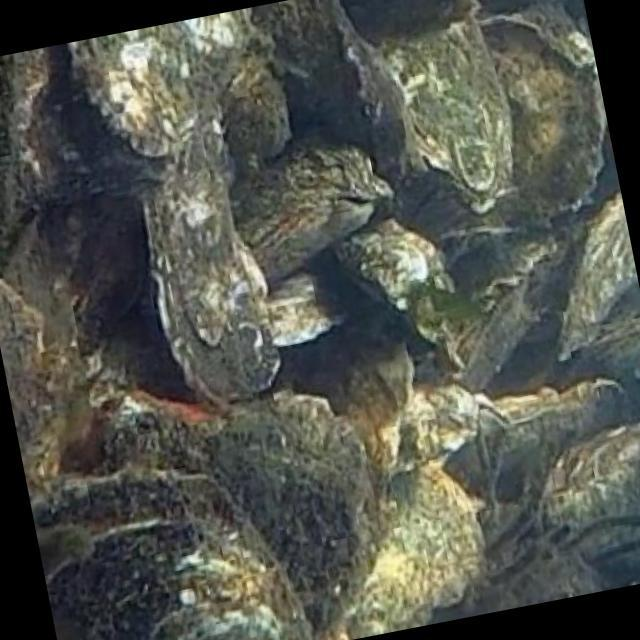Oyster- Indeterminate: (32, 476, 314, 640), (141, 127, 280, 412), (201, 390, 360, 629), (334, 454, 485, 640), (375, 10, 502, 214), (74, 12, 248, 155), (483, 9, 602, 212)
Oyster-Closed: (440, 374, 627, 485), (559, 192, 638, 355), (540, 417, 640, 537), (324, 216, 446, 311)
Oyster-Open: (240, 141, 383, 275)
